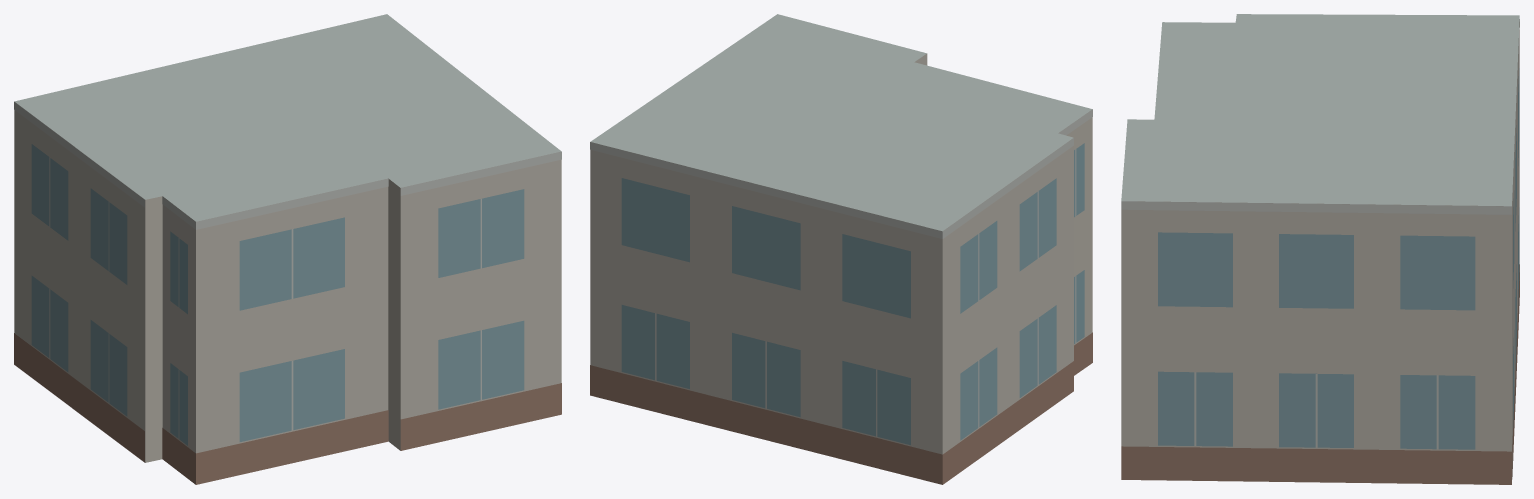
Rendered from survey-upis-33037505.glb.
The picture shows the model from 3 angles, left to right: view 1: azimuth 30°, elevation 25°; view 2: azimuth 150°, elevation 25°; view 3: azimuth 270°, elevation 25°; orthographic projection. The views are drawn at different scales.
Visible parts, largest first — view 1: survey-upis-33037505.tmp; view 2: survey-upis-33037505.tmp; view 3: survey-upis-33037505.tmp.
Boxes of the visible parts, x1,y1,x2,y2 form: survey-upis-33037505.tmp: (14,14,561,484); survey-upis-33037505.tmp: (590,14,1092,484); survey-upis-33037505.tmp: (1121,14,1519,484).
Bounding box in the file's own units: 11.7 × 7.9 × 10.25.
